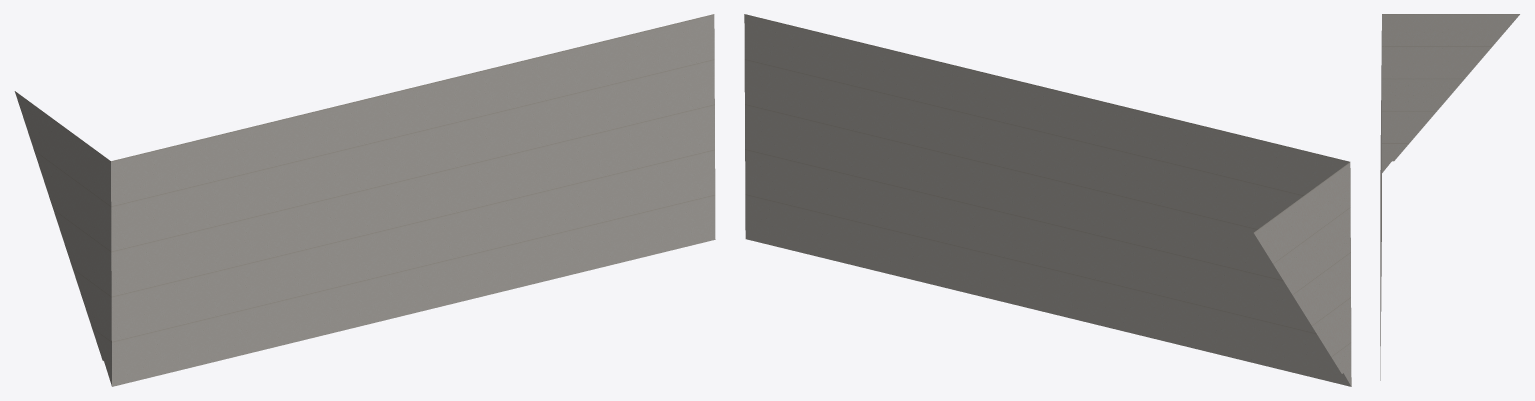
File: kd_stage_135d18_1_13.glb
3 views of the same model, side by side, from view 1: azimuth 30°, elevation 25°; view 2: azimuth 150°, elevation 25°; view 3: azimuth 270°, elevation 25° (orthographic). The views are drawn at different scales.
Visible parts, largest first — view 1: kd_stage_135d18_1_13; view 2: kd_stage_135d18_1_13; view 3: kd_stage_135d18_1_13.
Boxes of the visible parts, x1=… form: kd_stage_135d18_1_13: x1=14, y1=14, x2=715, y2=386; kd_stage_135d18_1_13: x1=744, y1=14, x2=1351, y2=386; kd_stage_135d18_1_13: x1=1380, y1=14, x2=1519, y2=380.
Size of the model in its own units: 9.64 by 3.43 by 2.7.
Materials: 1 (1 with a texture image).
